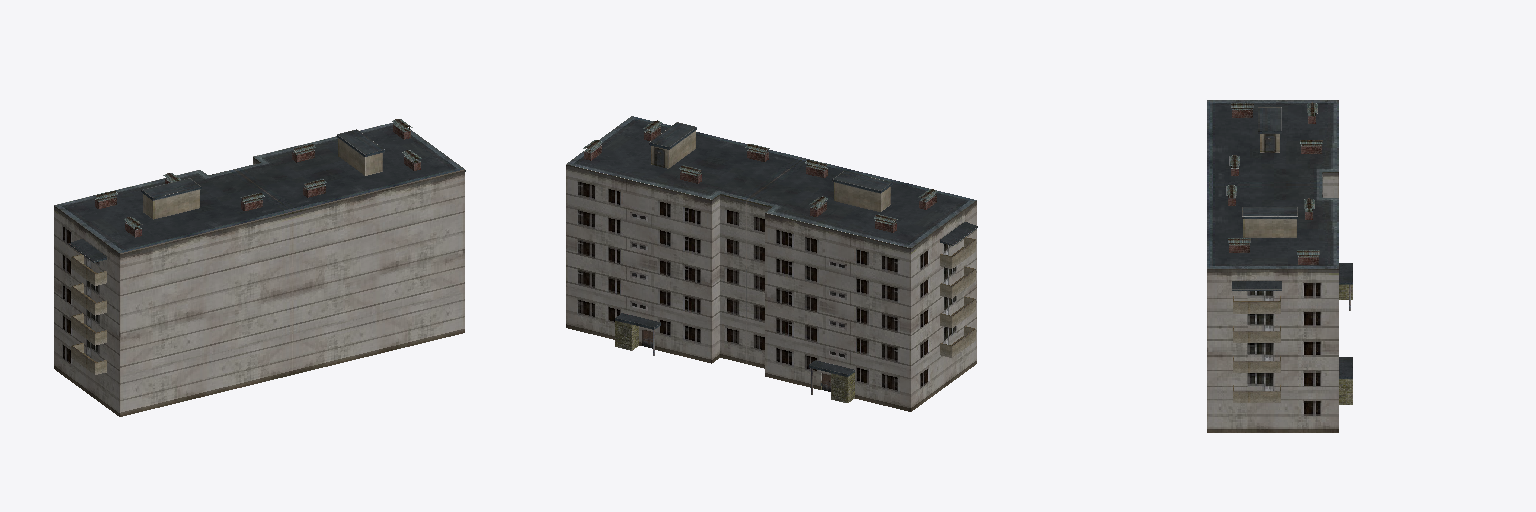
3 renders of one model, left to right at view 1: azimuth 30°, elevation 25°; view 2: azimuth 150°, elevation 25°; view 3: azimuth 270°, elevation 25°, orthographic.
Visible parts, largest first — view 1: building2; view 2: building2; view 3: building2.
Part boxes in pixels (left/top/right/bottom): building2: left=54, top=119, right=465, bottom=416; building2: left=566, top=116, right=977, bottom=411; building2: left=1207, top=100, right=1352, bottom=432.
Size of the model in its own units: 75.8 by 36.22 by 25.67.
1 materials, 1 textured.